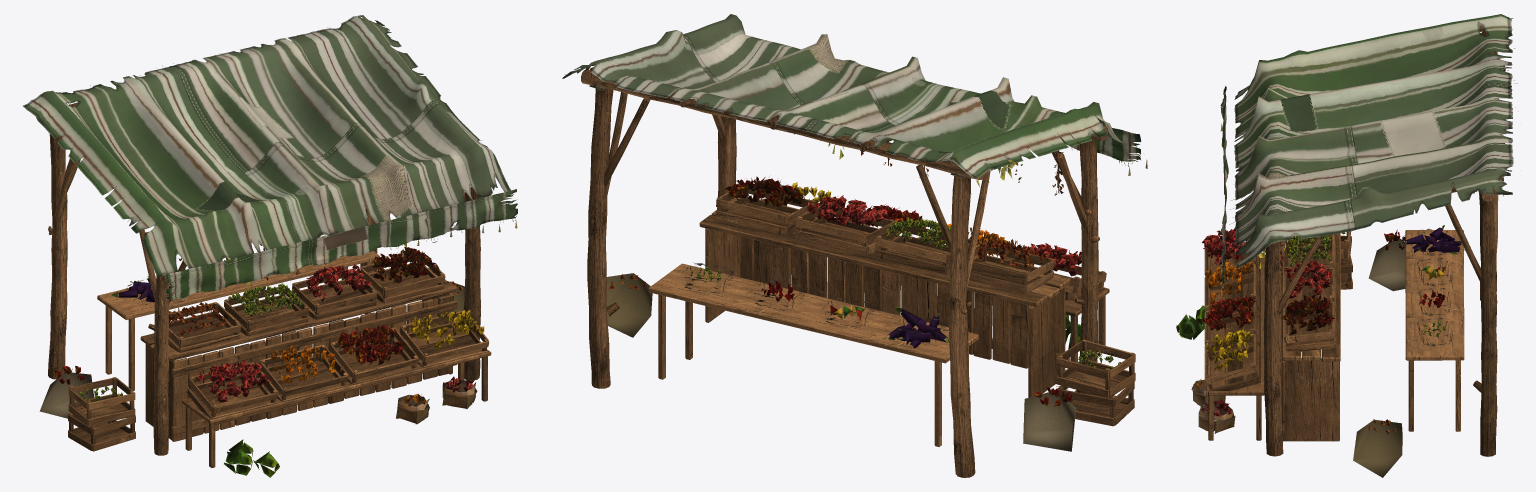
File: village-kiosk-4-v4-lite.glb
3 renders of one model, left to right at view 1: azimuth 30°, elevation 25°; view 2: azimuth 150°, elevation 25°; view 3: azimuth 270°, elevation 25°, orthographic. The views are drawn at different scales.
Visible parts, largest first — view 1: K4_Cloth, K4_Wood, K4_Props, K4_Bark, K4_Sack; view 2: K4_Wood, K4_Cloth, K4_Bark, K4_Props, K4_Sack; view 3: K4_Cloth, K4_Wood, K4_Props, K4_Bark, K4_Sack.
Boxes of the visible parts, left/top/right/bottom form: K4_Cloth: left=23, top=15, right=517, bottom=303; K4_Wood: left=68, top=251, right=491, bottom=467; K4_Props: left=53, top=220, right=517, bottom=477; K4_Bark: left=48, top=102, right=480, bottom=455; K4_Sack: left=39, top=281, right=464, bottom=421; K4_Wood: left=648, top=188, right=1135, bottom=446; K4_Cloth: left=562, top=14, right=1140, bottom=179; K4_Bark: left=581, top=67, right=1107, bottom=477; K4_Props: left=589, top=78, right=1147, bottom=407; K4_Sack: left=606, top=273, right=1076, bottom=451; K4_Cloth: left=1220, top=14, right=1518, bottom=285; K4_Wood: left=1204, top=230, right=1464, bottom=441; K4_Props: left=1176, top=31, right=1495, bottom=433; K4_Bark: left=1263, top=25, right=1505, bottom=456; K4_Sack: left=1353, top=238, right=1405, bottom=477.
Size of the model in its own units: 4.7 by 3.02 by 3.24.
Materials: 5 (5 with a texture image).
